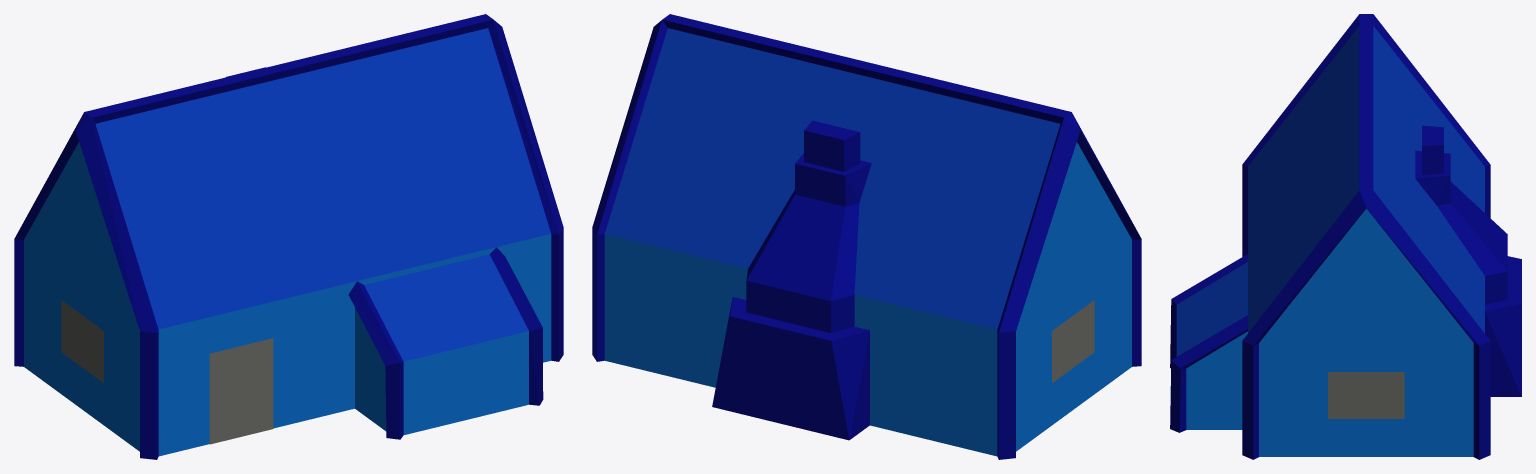
Rendered from House-Snow-M-1.fbx.
3 views of the same model, side by side, from view 1: azimuth 30°, elevation 25°; view 2: azimuth 150°, elevation 25°; view 3: azimuth 270°, elevation 25° (orthographic). The views are drawn at different scales.
Parts seen in each view (by area): view 1: House-Snow-M-1; view 2: House-Snow-M-1; view 3: House-Snow-M-1.
Boxes of the visible parts, x1,y1,x2,y2 form: House-Snow-M-1: (14,14,563,459); House-Snow-M-1: (592,14,1141,459); House-Snow-M-1: (1170,14,1521,459).
Bounding box in the file's own units: 934 × 616 × 742.
